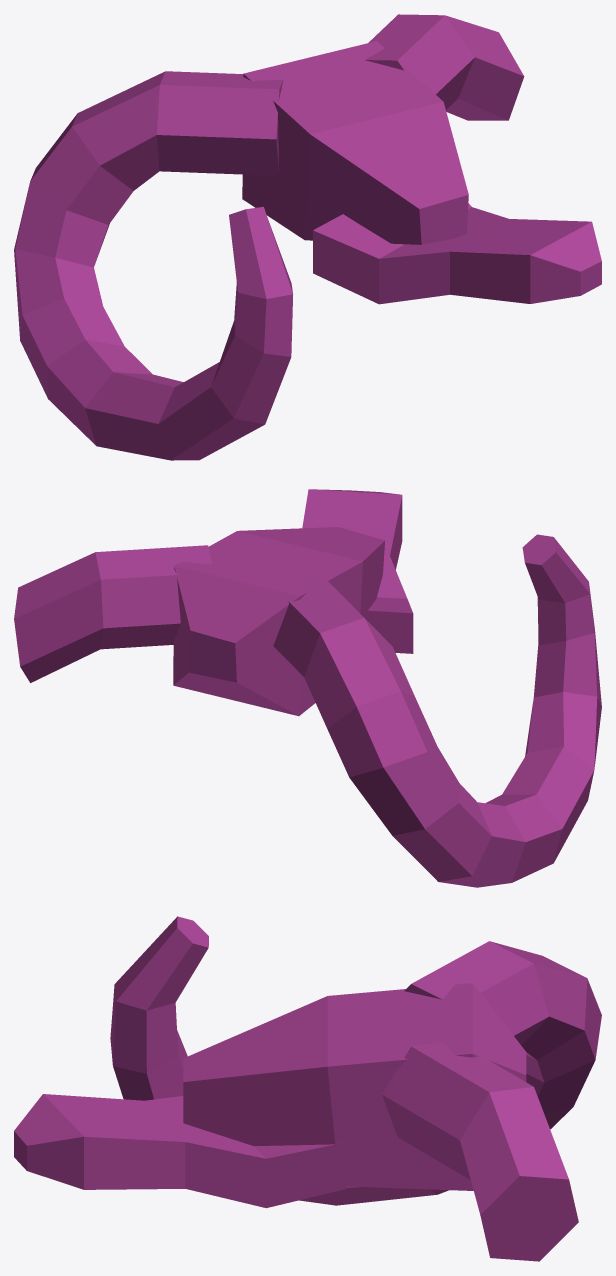
Rendered from SM_Env_Bones_04_Collision.fbx.
3 renders of one model, top to bottom at view 1: azimuth 30°, elevation 25°; view 2: azimuth 150°, elevation 25°; view 3: azimuth 270°, elevation 25°, orthographic. The views are drawn at different scales.
Visible parts, largest first — view 1: SM_Env_Bones_04_Collision; view 2: SM_Env_Bones_04_Collision; view 3: SM_Env_Bones_04_Collision.
Boxes of the visible parts, x1=… form: SM_Env_Bones_04_Collision: x1=14, y1=14, x2=601, y2=460; SM_Env_Bones_04_Collision: x1=14, y1=489, x2=601, y2=887; SM_Env_Bones_04_Collision: x1=14, y1=916, x2=601, y2=1261.
Bounding box in the file's own units: 323 × 179 × 301.
